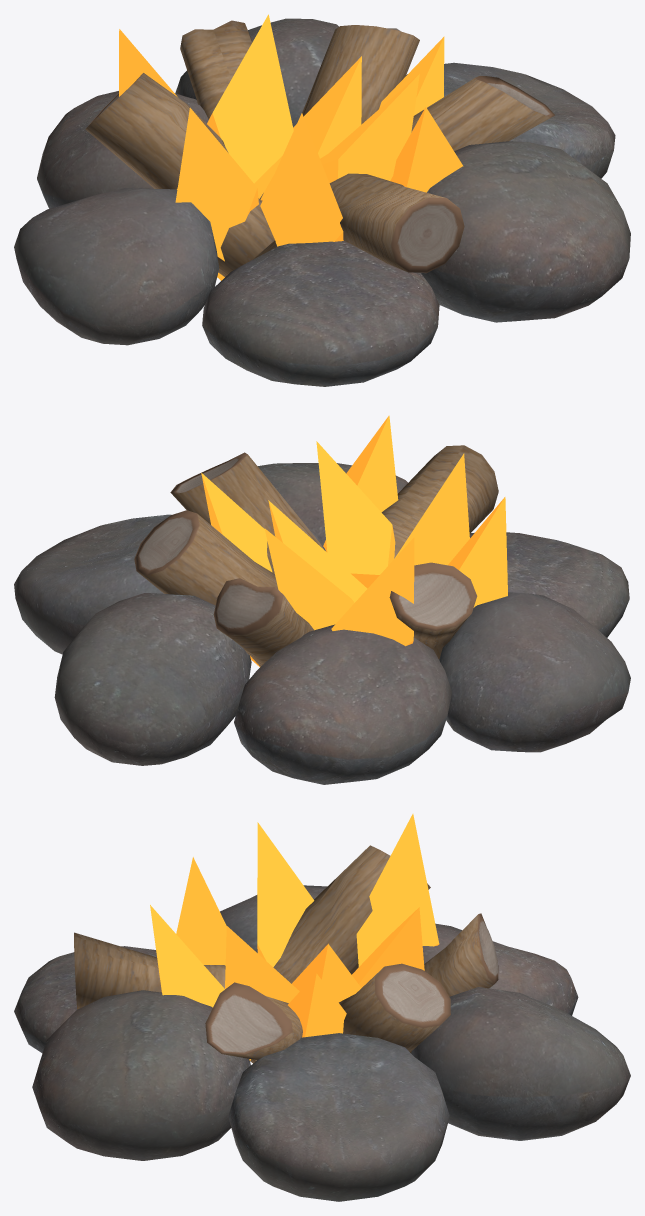
The model's file is Firecamp.fbx.
3 views of the same model, one above another, from view 1: azimuth 30°, elevation 25°; view 2: azimuth 150°, elevation 25°; view 3: azimuth 270°, elevation 25° (orthographic). The views are drawn at different scales.
Visible parts, largest first — view 1: Fogata, Fire; view 2: Fogata, Fire; view 3: Fogata, Fire.
Boxes of the visible parts, x1,y1,x2,y2 form: Fogata: [14, 18, 630, 386]; Fire: [119, 14, 463, 280]; Fogata: [14, 445, 630, 784]; Fire: [201, 415, 507, 666]; Fogata: [14, 845, 630, 1201]; Fire: [150, 813, 439, 1060].
Size of the model in its own units: 93.71 by 36.68 by 91.17.
Materials: 3 (3 with a texture image).
